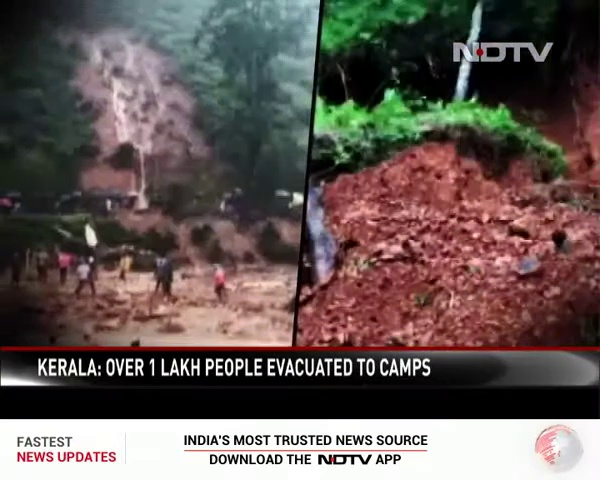person: (154, 251, 172, 299), (212, 268, 229, 307), (78, 259, 92, 297), (58, 253, 72, 289), (11, 253, 25, 286), (37, 253, 48, 289)
